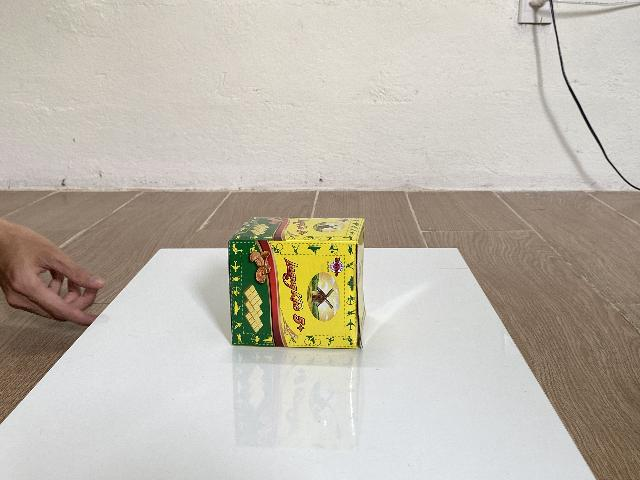luong_kho: (227, 217, 365, 352)
